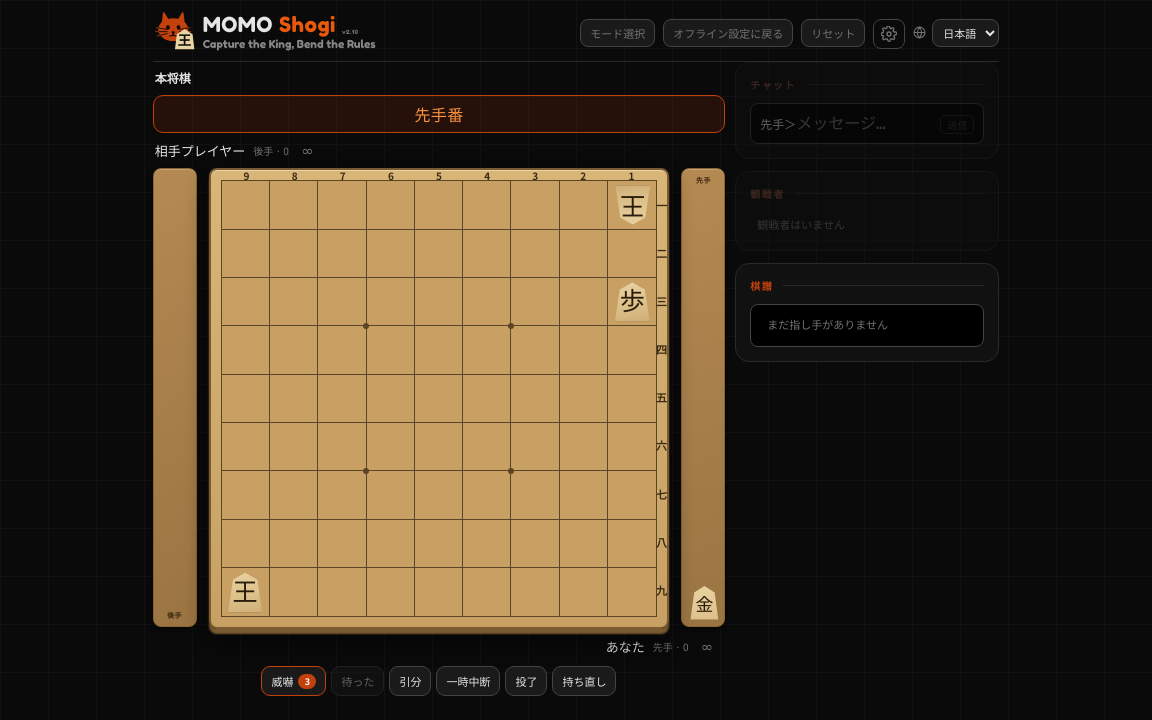
Test: 威嚇の動き (★v1.96) › ★威嚇つきの手で終局したら、威嚇の動きを見せ終えてから勝敗の窓と勝敗の音を出す (ユーザー指摘)
Click the button "威嚇 3". click: (294, 681)
box: x1=262 y1=666 x2=326 y2=696
Wait 5760 ms
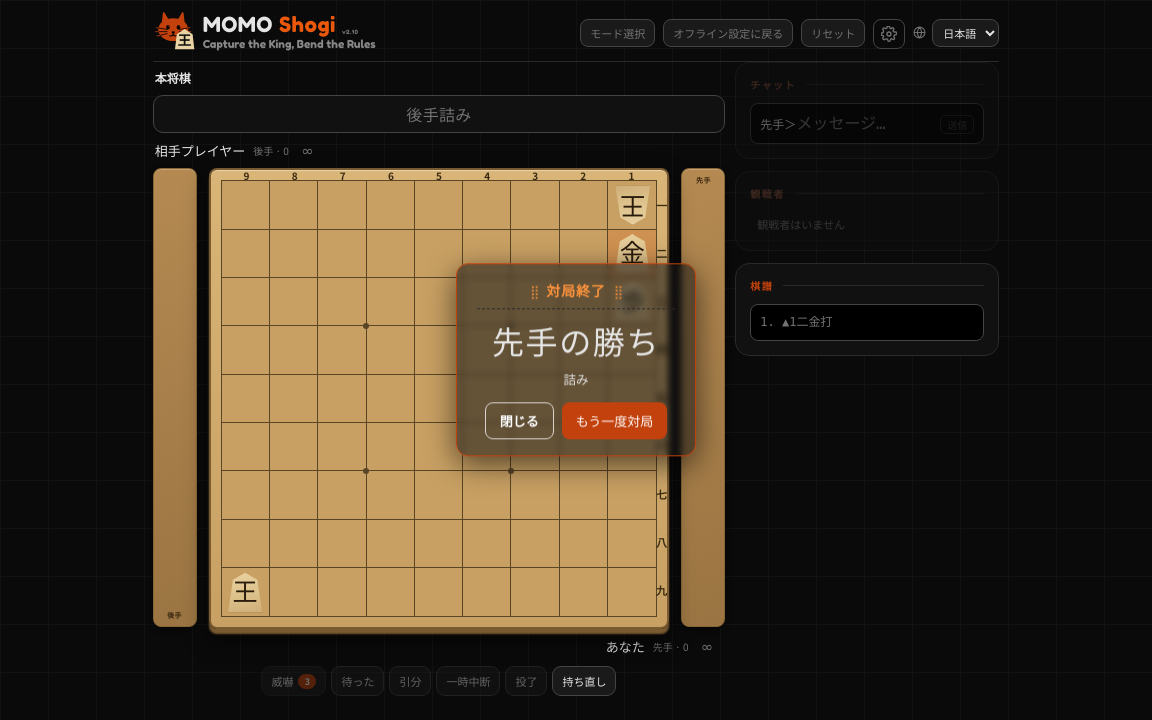
Expected: the text "対局終了" is shown, x1=546 y1=280 x2=606 y2=300
